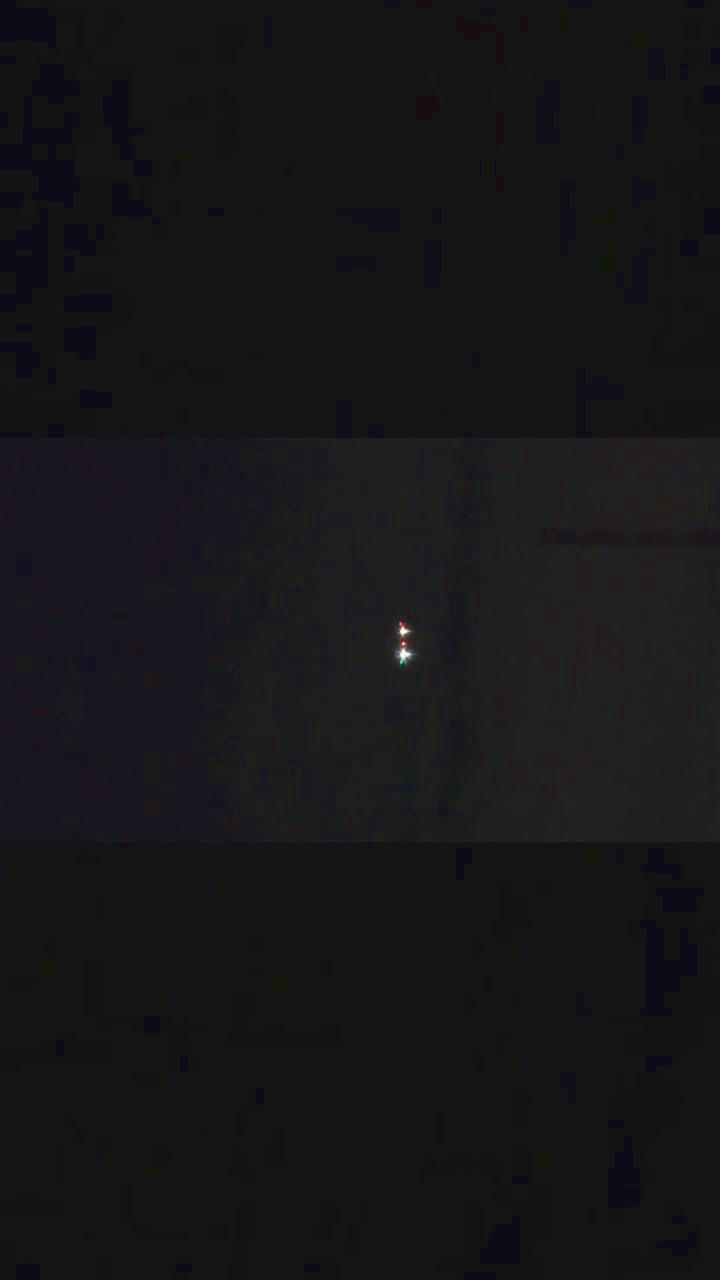Plane: (372, 590, 434, 693)
